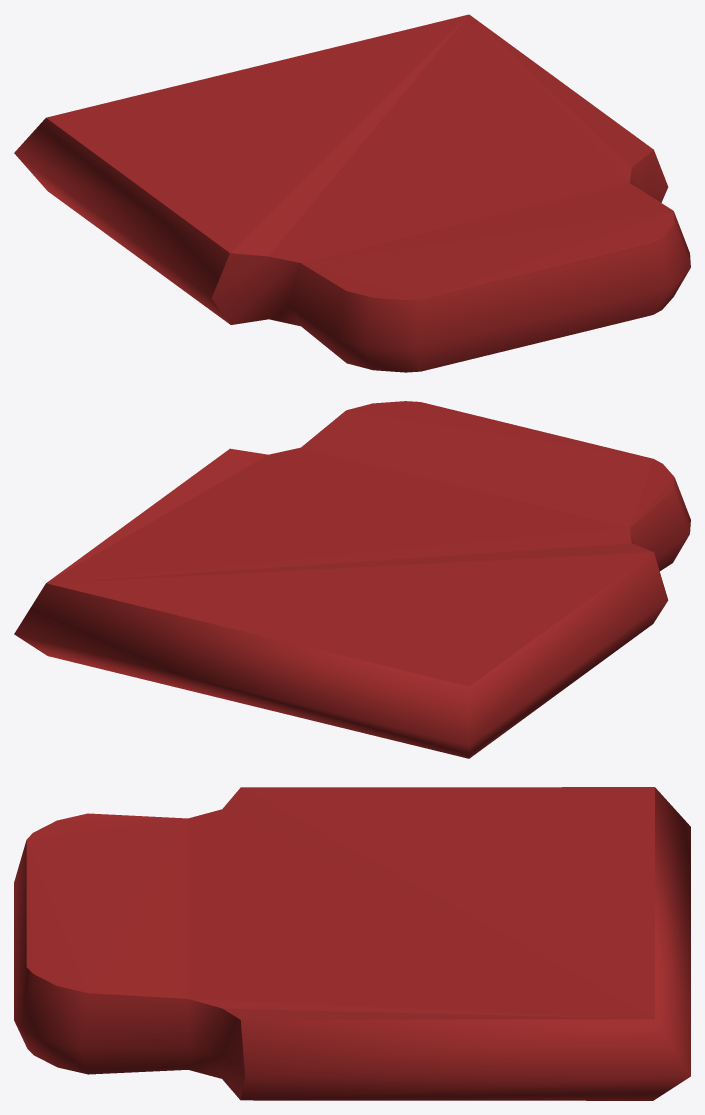
Rendered from Balcony_Col.FBX.
3 renders of one model, top to bottom at view 1: azimuth 30°, elevation 25°; view 2: azimuth 150°, elevation 25°; view 3: azimuth 270°, elevation 25°, orthographic. The views are drawn at different scales.
Visible parts, largest first — view 1: Balcony_Col; view 2: Balcony_Col; view 3: Balcony_Col.
Boxes of the visible parts, x1,y1,x2,y2 form: Balcony_Col: [14, 14, 690, 372]; Balcony_Col: [14, 401, 690, 758]; Balcony_Col: [14, 787, 690, 1100].
Size of the model in its own units: 6.52 by 0.9978 by 7.45.
